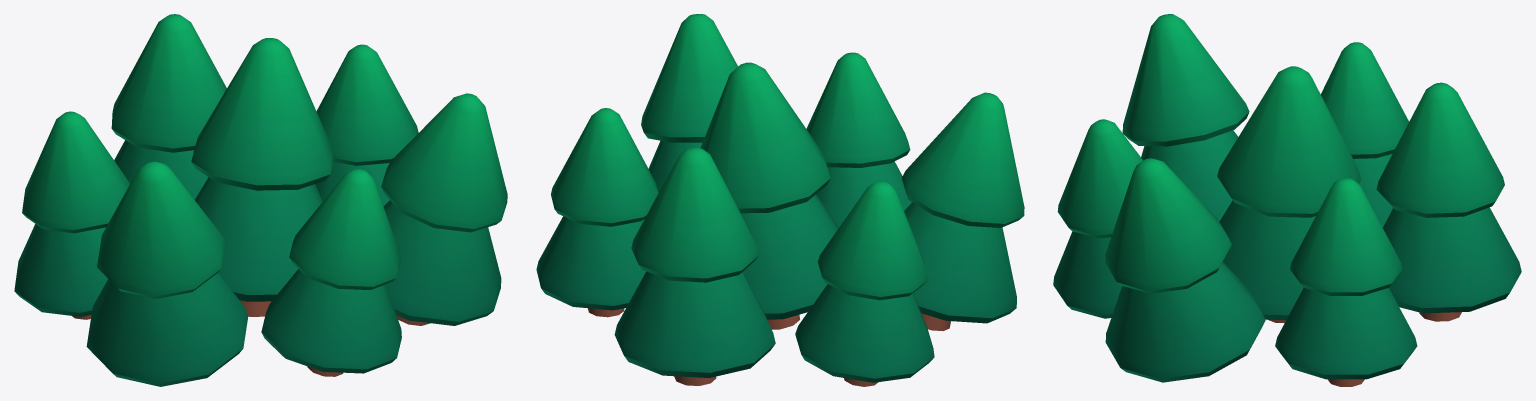
Rendered from trees-b-l.glb.
The picture shows the model from 3 angles, left to right: view 1: azimuth 30°, elevation 25°; view 2: azimuth 150°, elevation 25°; view 3: azimuth 270°, elevation 25°; orthographic projection. The views are drawn at different scales.
Parts seen in each view (by area): view 1: trees_B_large; view 2: trees_B_large; view 3: trees_B_large.
Boxes of the visible parts, box(x1,y1,x2,y2) form: trees_B_large: box(14, 14, 507, 386); trees_B_large: box(536, 14, 1024, 386); trees_B_large: box(1053, 14, 1521, 386).
Size of the model in its own units: 1.85 by 1.17 by 1.93.
Materials: 1 (1 with a texture image).
